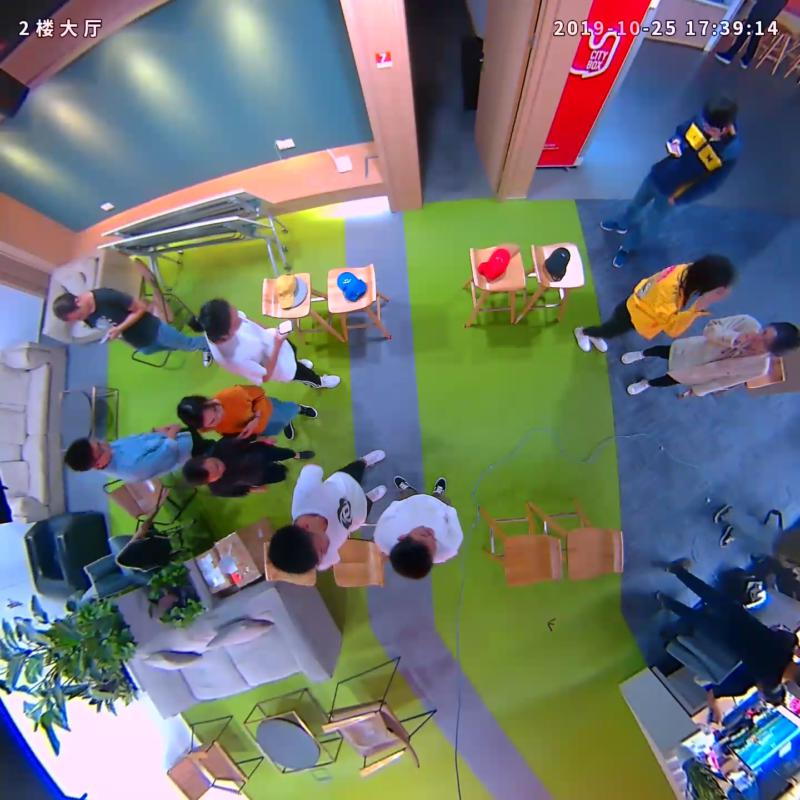head: (267, 524, 330, 574), (389, 525, 437, 581), (689, 255, 737, 297), (199, 299, 243, 339), (749, 321, 800, 355), (177, 395, 223, 431), (65, 438, 113, 472), (700, 95, 737, 138), (182, 454, 225, 485), (51, 289, 89, 322)
